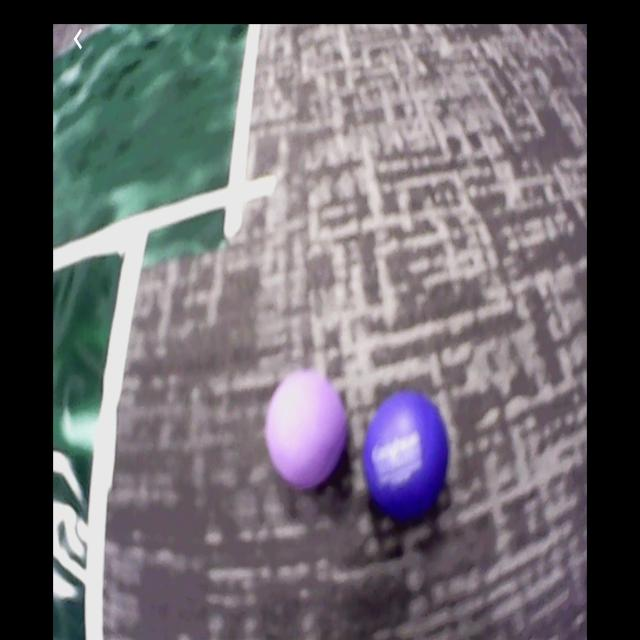ball: (366, 388, 452, 528), (268, 373, 346, 491)
